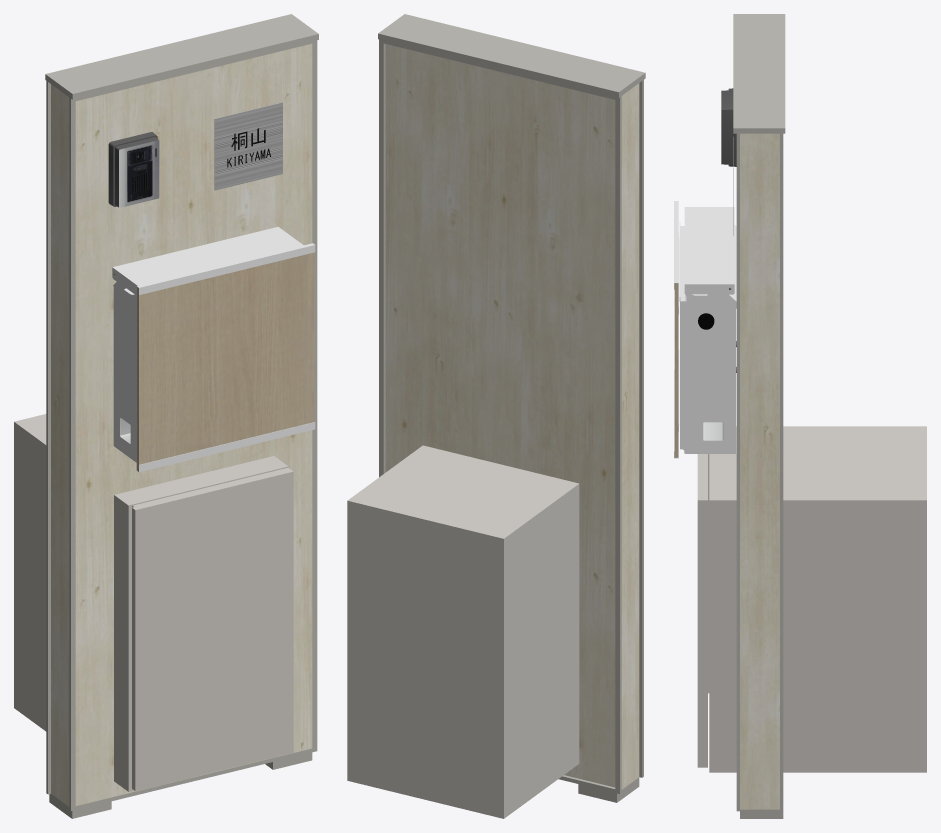
Rendered from de-boxmonchu_whitepine.fbx.
3 renders of one model, left to right at view 1: azimuth 30°, elevation 25°; view 2: azimuth 150°, elevation 25°; view 3: azimuth 270°, elevation 25°, orthographic. The views are drawn at different scales.
Visible parts, largest first — view 1: whitepine; view 2: whitepine; view 3: whitepine.
Part boxes in pixels (x1,y1,x2,y2): whitepine: [14, 14, 318, 818]; whitepine: [347, 14, 645, 818]; whitepine: [674, 14, 926, 818].
Bounding box in the file's own units: 53.1 × 150 × 49.65.
12 materials, 4 textured.
